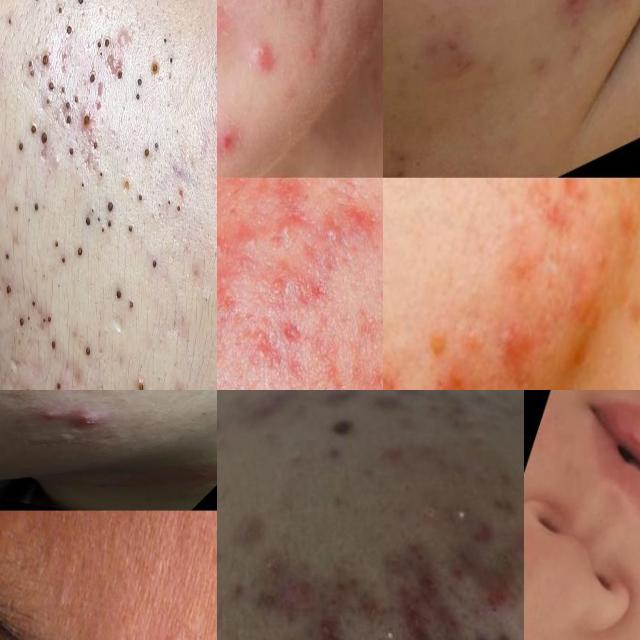acne_scars: (296, 178, 383, 292), (217, 200, 273, 296), (290, 0, 351, 86), (234, 306, 288, 384), (430, 22, 484, 92), (417, 343, 481, 390), (272, 302, 316, 361), (544, 0, 603, 31), (383, 136, 422, 178)
comedone: (279, 562, 328, 616), (388, 460, 432, 512), (456, 140, 489, 178), (86, 624, 119, 640), (14, 135, 27, 155), (39, 52, 52, 71), (74, 244, 88, 261), (40, 127, 53, 145), (28, 120, 38, 142), (81, 213, 92, 232), (85, 70, 98, 86), (72, 90, 82, 110), (56, 2, 65, 23), (94, 38, 106, 53), (50, 335, 59, 355), (115, 69, 127, 83), (68, 147, 79, 162), (114, 287, 123, 305), (127, 299, 136, 316), (90, 140, 100, 155), (83, 347, 93, 362), (107, 199, 115, 217), (142, 143, 150, 161), (135, 74, 146, 87), (133, 90, 144, 103), (125, 225, 136, 238), (5, 278, 12, 298), (104, 34, 112, 51), (136, 190, 145, 205), (13, 202, 21, 218), (64, 22, 73, 36), (17, 314, 25, 329), (150, 260, 158, 275), (2, 251, 12, 263), (48, 78, 55, 94), (54, 234, 61, 250), (65, 100, 72, 115), (33, 200, 41, 212), (65, 114, 73, 126), (77, 0, 87, 8), (33, 0, 42, 6)
cystic: (49, 399, 127, 434), (22, 403, 81, 427)
flat_wart: (138, 605, 200, 640)
papule: (479, 303, 560, 390), (235, 30, 282, 98)
pustule: (262, 201, 310, 260)
sebo-crystan-conglo: (337, 512, 523, 640), (266, 599, 385, 640)
